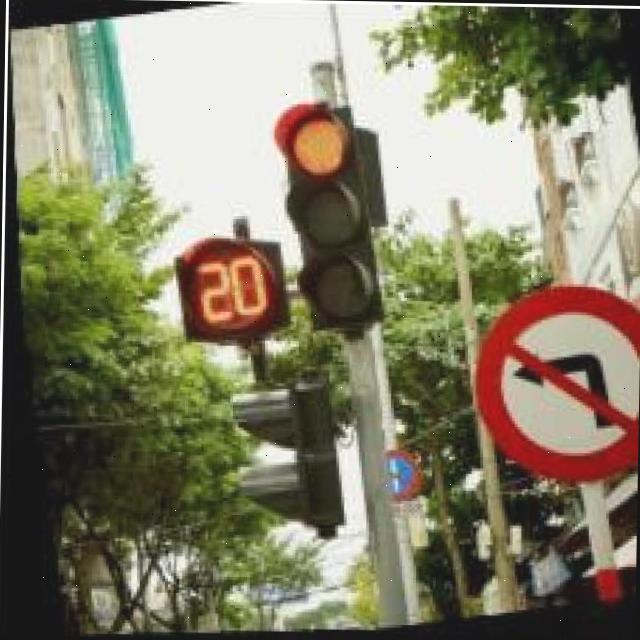red_light: (256, 94, 391, 336)
